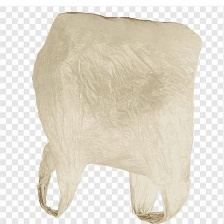plastic_bag: (27, 10, 206, 223)
